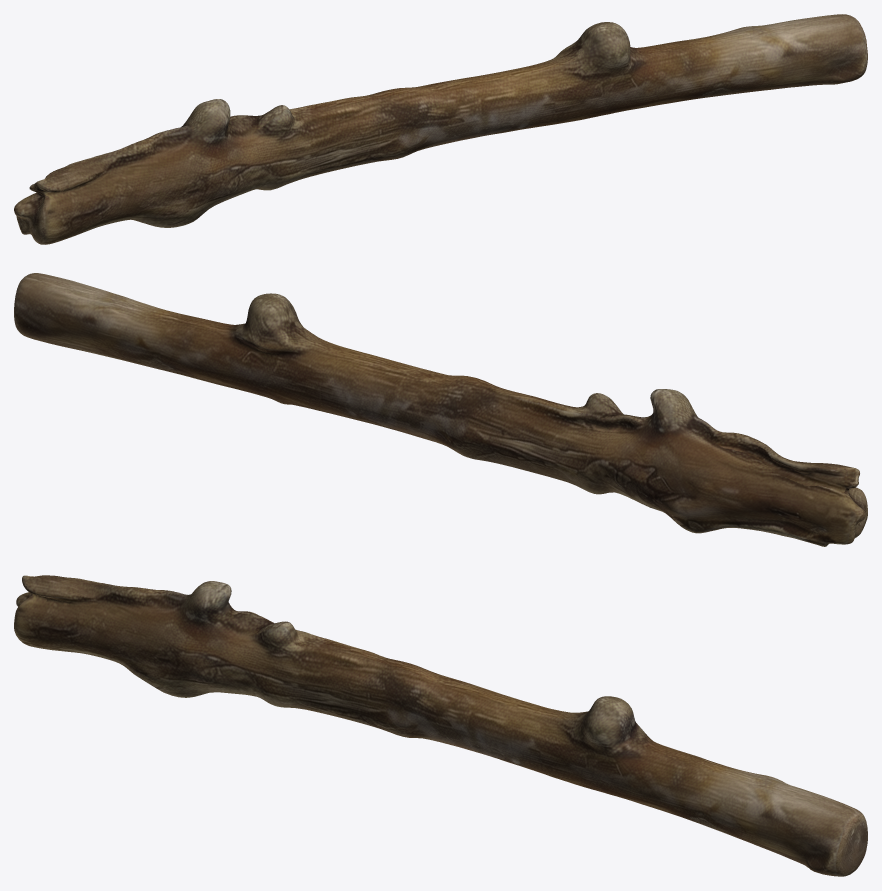
The model's file is palo.glb.
The picture shows the model from 3 angles, top to bottom: view 1: azimuth 30°, elevation 25°; view 2: azimuth 150°, elevation 25°; view 3: azimuth 330°, elevation 25°; orthographic projection. The views are drawn at different scales.
Bounding box in the file's own units: 1.9 × 0.2597 × 0.2337.
1 material, 1 textured.
